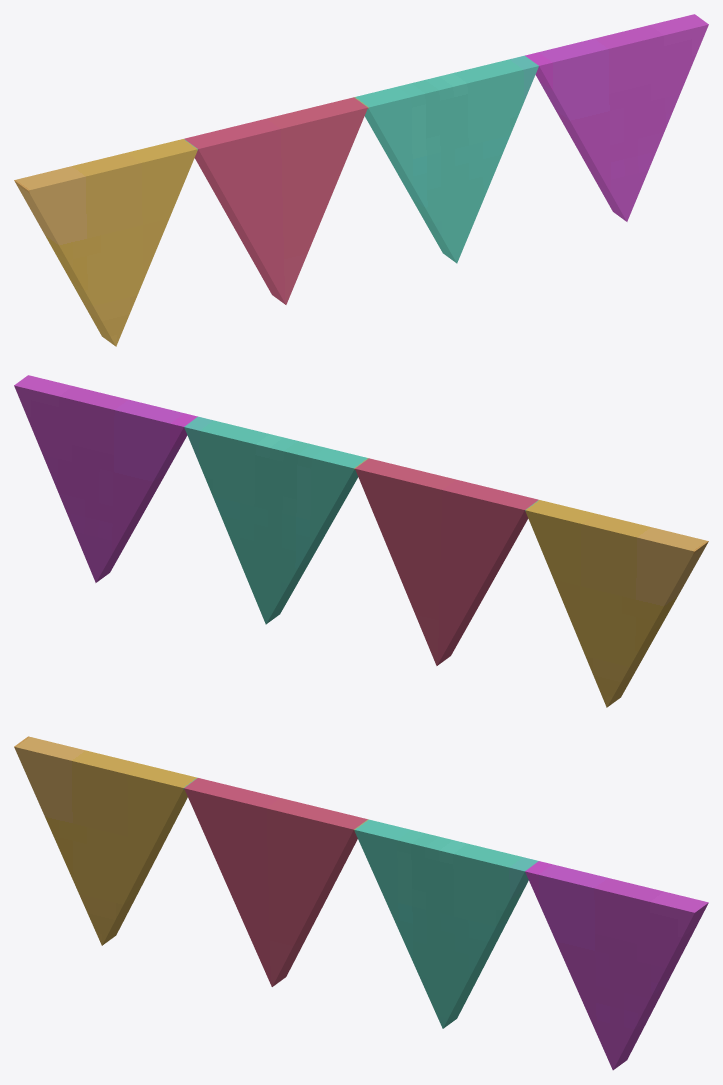
The model's file is item_pennant_spring.glb.
The picture shows the model from 3 angles, top to bottom: view 1: azimuth 30°, elevation 25°; view 2: azimuth 150°, elevation 25°; view 3: azimuth 330°, elevation 25°; orthographic projection.
Visible parts, largest first — view 1: PennantBanner; view 2: PennantBanner; view 3: PennantBanner.
Part boxes in pixels (x1,y1,x2,y2): PennantBanner: (14,14,708,346); PennantBanner: (14,375,708,707); PennantBanner: (14,736,708,1070).
Size of the model in its own units: 0.5894 by 0.147 by 0.0213.
Materials: 1 (1 with a texture image).
